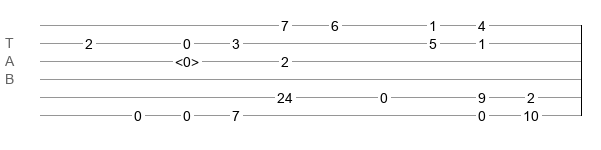0: (134, 108, 142, 118), (183, 36, 191, 46), (183, 108, 191, 118), (380, 90, 388, 100), (478, 108, 486, 118)
1: (429, 18, 437, 28), (478, 36, 486, 46)
10: (523, 108, 539, 118)
2: (85, 36, 93, 46), (281, 54, 289, 64), (527, 90, 535, 100)
24: (277, 90, 293, 100)
3: (232, 36, 240, 46)
4: (478, 18, 486, 28)
5: (429, 36, 437, 46)
6: (331, 18, 339, 28)
7: (232, 108, 240, 118), (281, 18, 289, 28)
9: (478, 90, 486, 100)
harmonic: (175, 54, 199, 64)
